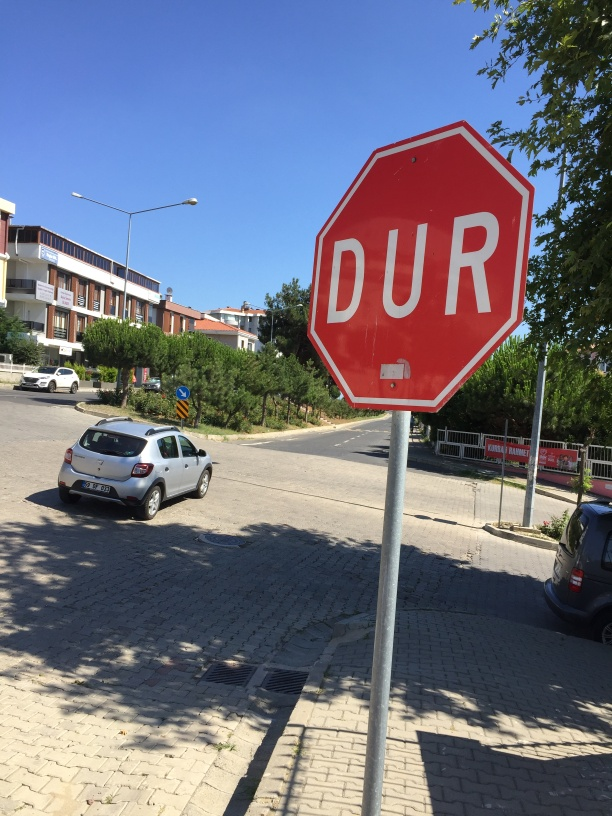arac_dur_isareti: (321, 100, 478, 452), (320, 122, 496, 365)
